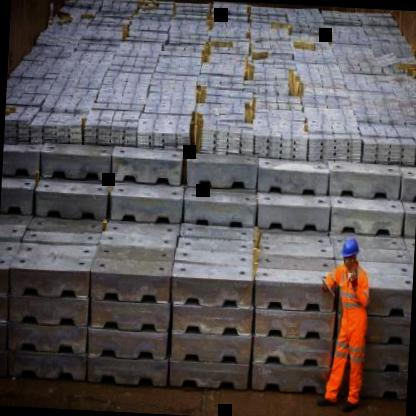helmet: (338, 235, 362, 273)
